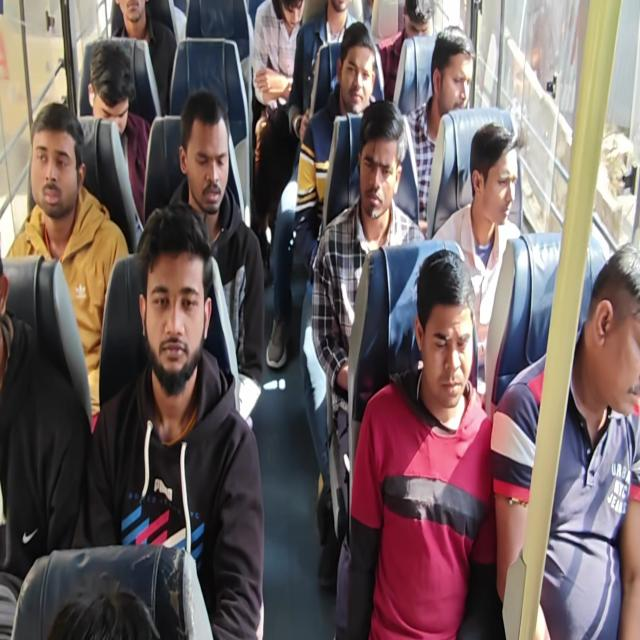person: (1, 1, 638, 638), (81, 201, 265, 638), (335, 248, 497, 638), (490, 241, 640, 638), (310, 98, 426, 590), (5, 102, 130, 430), (0, 247, 92, 638), (167, 89, 265, 429), (431, 121, 522, 382), (293, 21, 379, 281), (399, 25, 476, 231), (251, 0, 305, 248), (86, 39, 151, 227), (286, 0, 362, 142), (109, 0, 177, 116), (47, 579, 161, 639), (375, 0, 437, 103)
